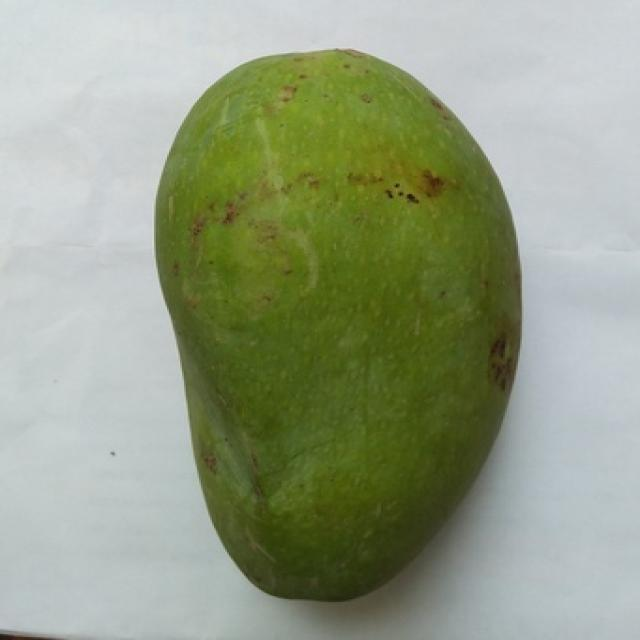Mango: (156, 50, 520, 599)
